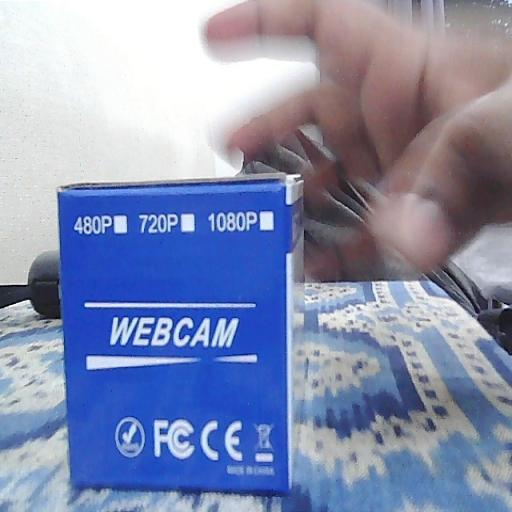webcam_box: (57, 169, 305, 498)
